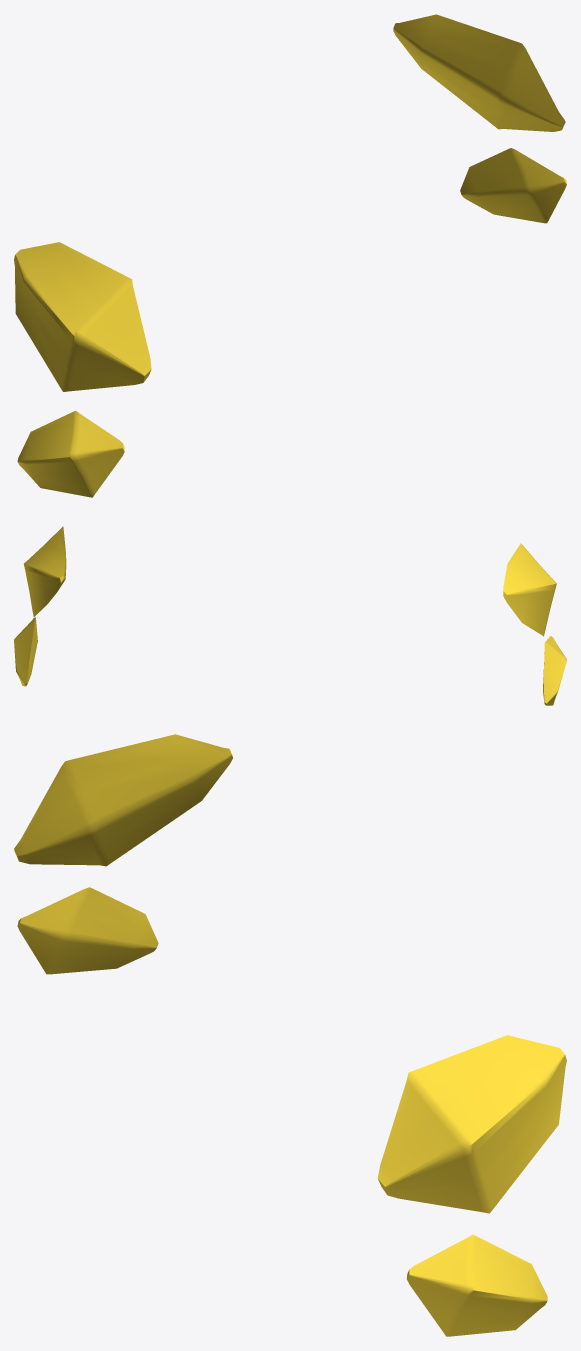
3 renders of one model, top to bottom at view 1: azimuth 30°, elevation 25°; view 2: azimuth 150°, elevation 25°; view 3: azimuth 270°, elevation 25°, orthographic. The views are drawn at different scales.
Visible parts, largest first — view 1: side_face_decor.001; view 2: side_face_decor.001; view 3: side_face_decor.001.
Part boxes in pixels (x1,y1,x2,y2): side_face_decor.001: (14, 14, 566, 497); side_face_decor.001: (14, 526, 566, 705); side_face_decor.001: (14, 734, 566, 1336).
Bounding box in the file's own units: 99.4 × 60.27 × 31.24.
